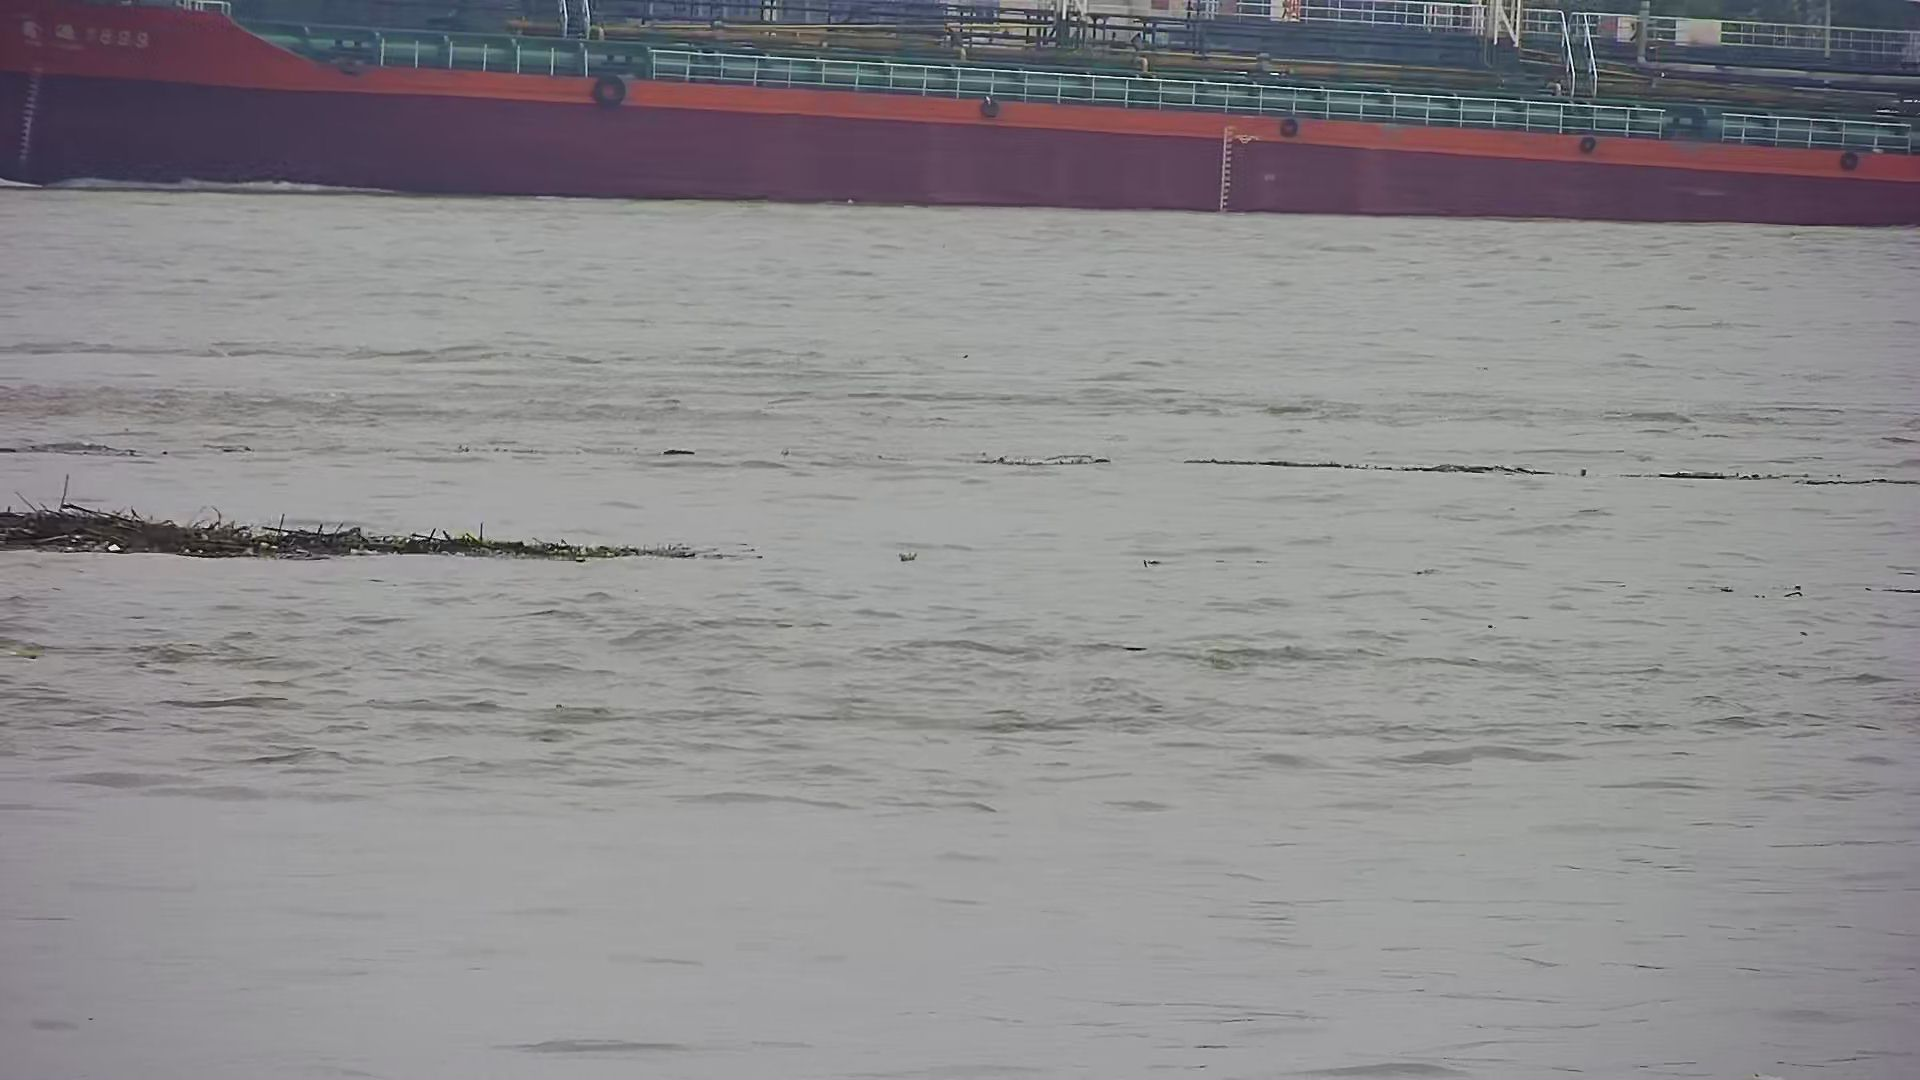grass: (15, 477, 708, 571)
ship: (7, 7, 1915, 241)
